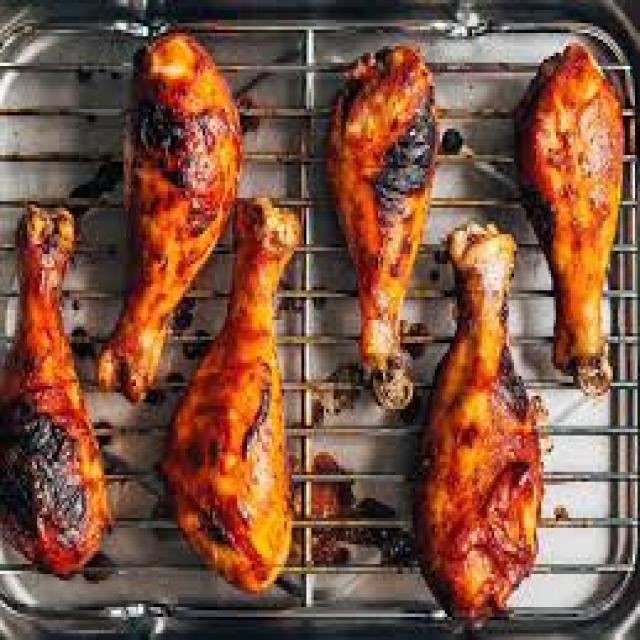Frango: (3, 40, 625, 607)
